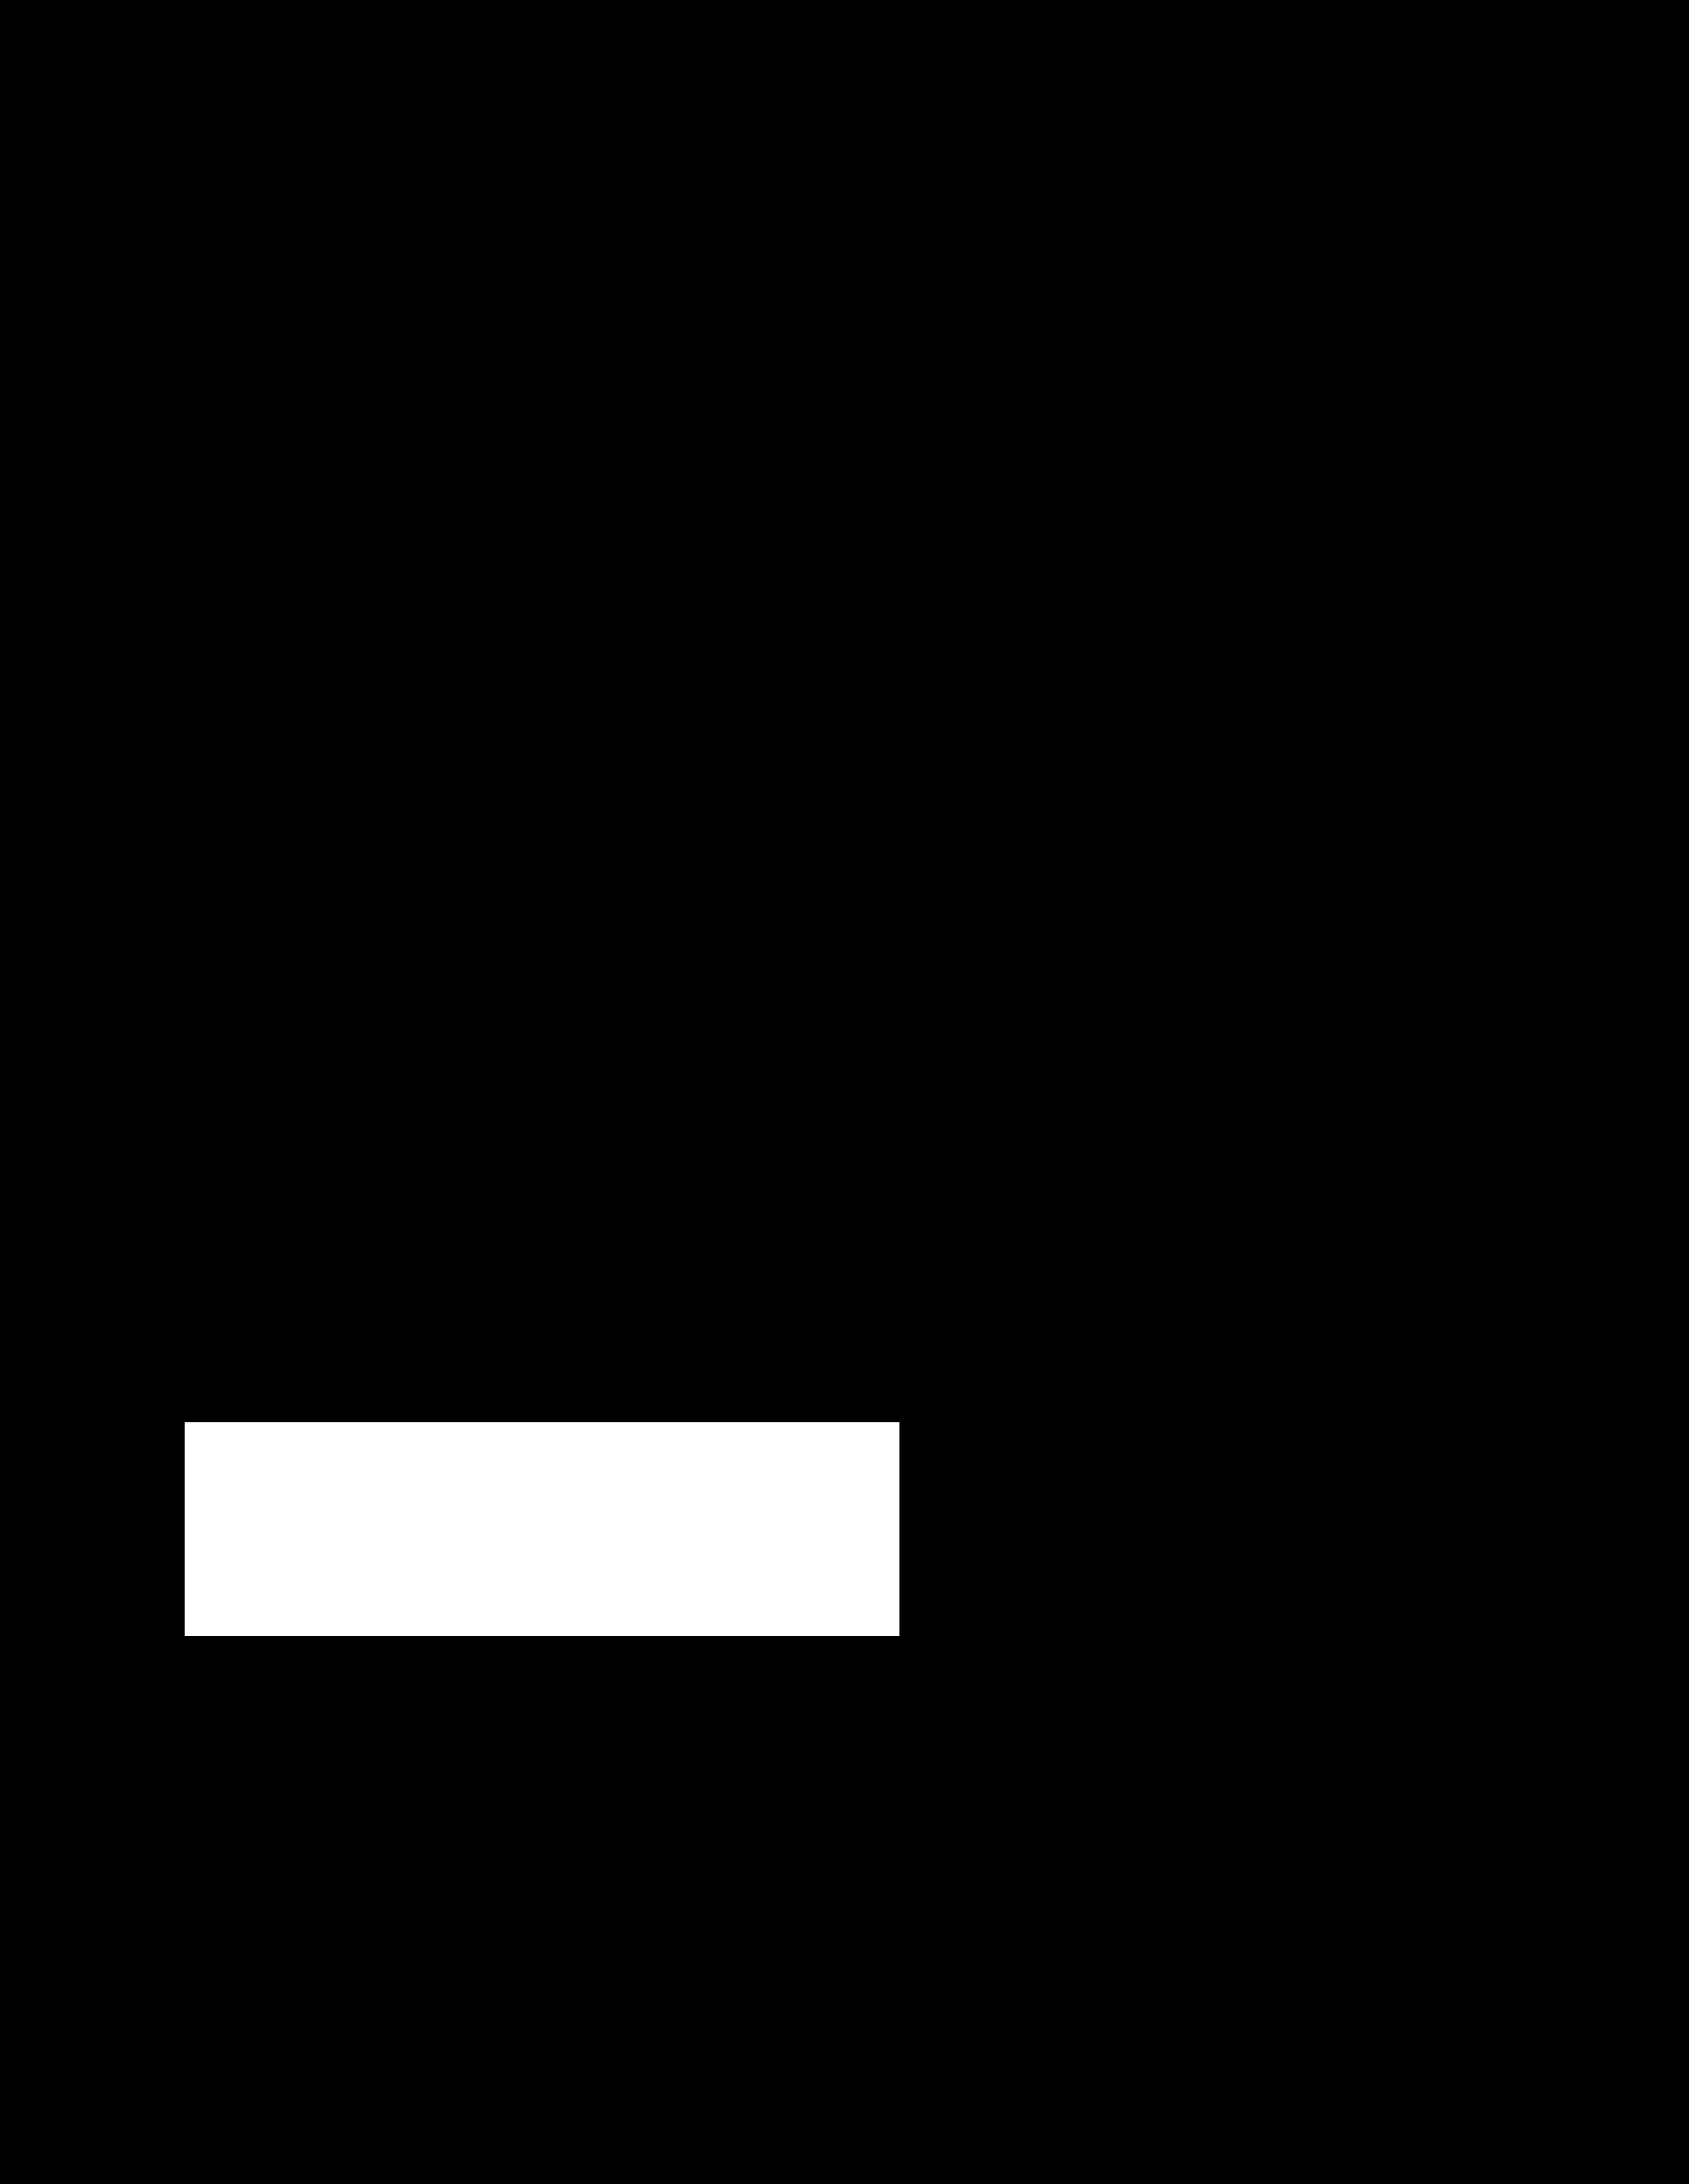table: (184, 1422, 899, 1636)
